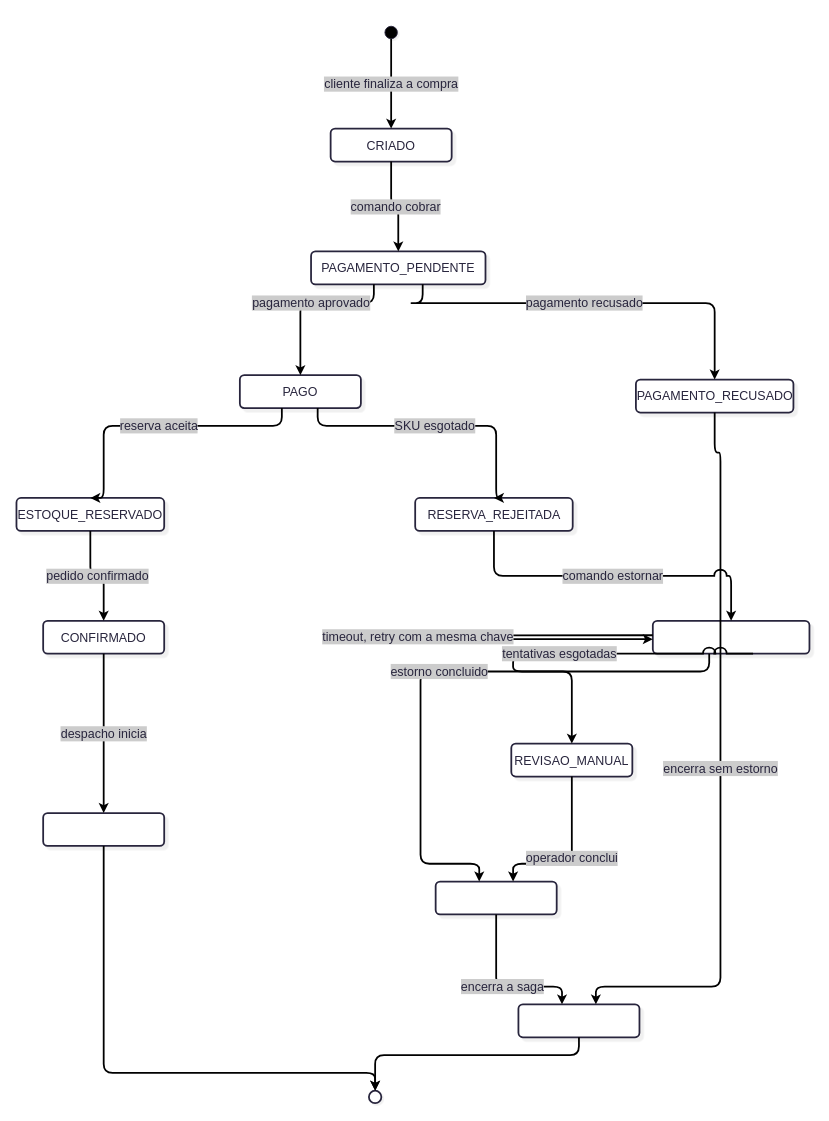
Image size: 829x1121. Some labels were removed from this diagram. Each missing label, with the centre of its shape:
CANCELADO: the point at 580,1022
EM_SEPARACAO: the point at 105,831
ESTORNADO: the point at 497,899
ESTORNO_PENDENTE: the point at 732,638
